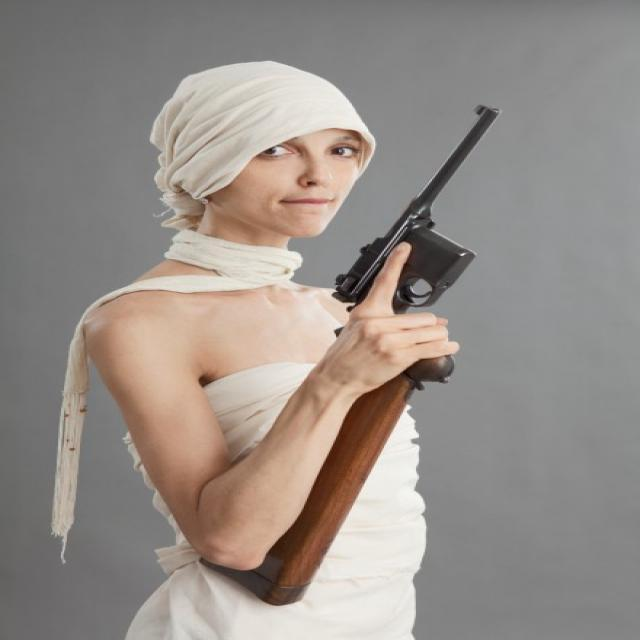gun: (332, 100, 520, 374)
